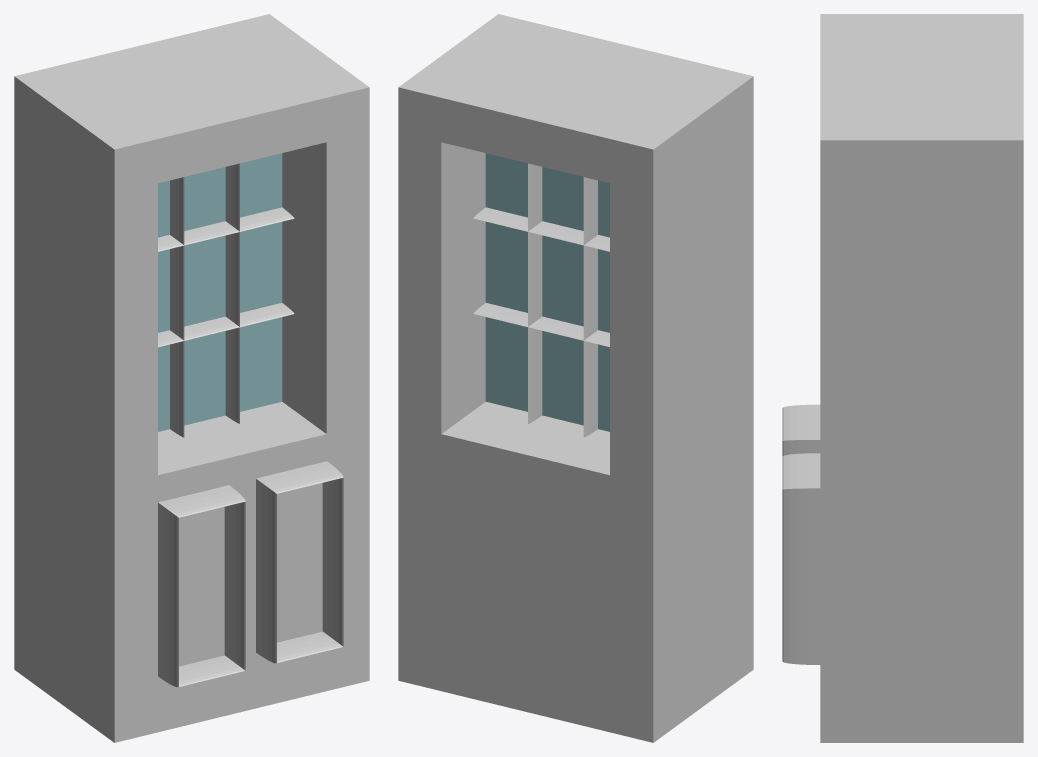
Rendered from Amazing Esboo.glb.
3 renders of one model, left to right at view 1: azimuth 30°, elevation 25°; view 2: azimuth 150°, elevation 25°; view 3: azimuth 270°, elevation 25°, orthographic.
Visible parts, largest first — view 1: Mesh_Mesh_head_geo.001_lambert2SG.001; view 2: Mesh_Mesh_head_geo.001_lambert2SG.001; view 3: Mesh_Mesh_head_geo.001_lambert2SG.001.
Part boxes in pixels (<box>): Mesh_Mesh_head_geo.001_lambert2SG.001: <box>14,14,369,742</box>; Mesh_Mesh_head_geo.001_lambert2SG.001: <box>398,14,753,742</box>; Mesh_Mesh_head_geo.001_lambert2SG.001: <box>782,14,1023,742</box>.
Size of the model in its own units: 0.018 by 0.04 by 0.0145.
